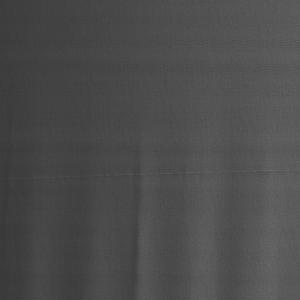Wrinkle: (2, 103, 300, 300), (1, 47, 300, 87)
